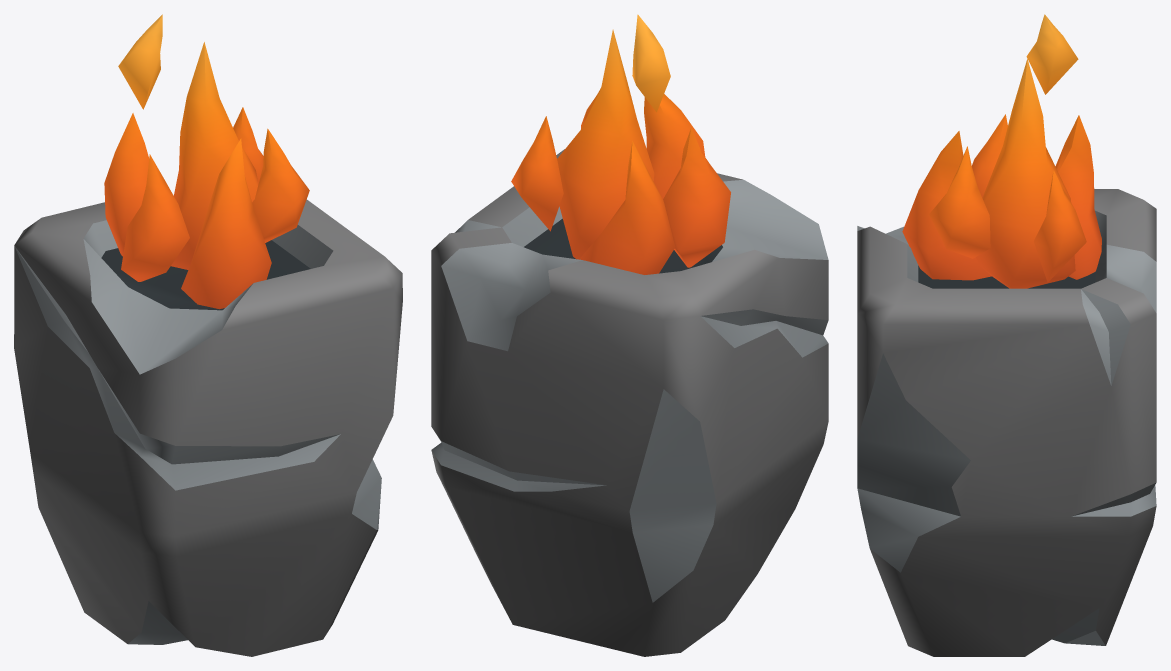
Rendered from fire_001.glb.
The picture shows the model from 3 angles, left to right: view 1: azimuth 30°, elevation 25°; view 2: azimuth 150°, elevation 25°; view 3: azimuth 270°, elevation 25°; orthographic projection. The views are drawn at different scales.
Visible parts, largest first — view 1: fire_001; view 2: fire_001; view 3: fire_001.
Part boxes in pixels (x1=…): fire_001: x1=14, y1=14, x2=402, y2=656; fire_001: x1=431, y1=14, x2=828, y2=656; fire_001: x1=857, y1=14, x2=1156, y2=656.
Bounding box in the file's own units: 2.43 × 5.27 × 2.43.
2 materials, 2 textured.
